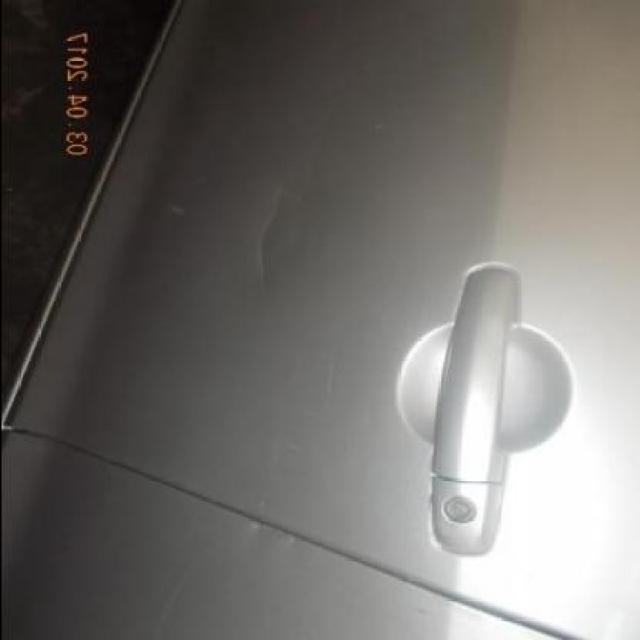damage: (238, 173, 291, 292), (229, 500, 302, 552)
